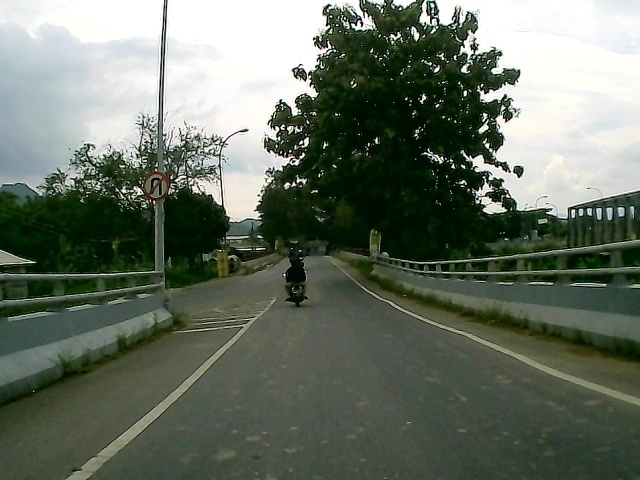Dilarang berbalik arah: (142, 171, 171, 202)
